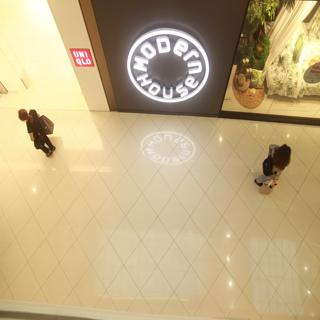person: (15, 103, 60, 163), (256, 137, 294, 201)
